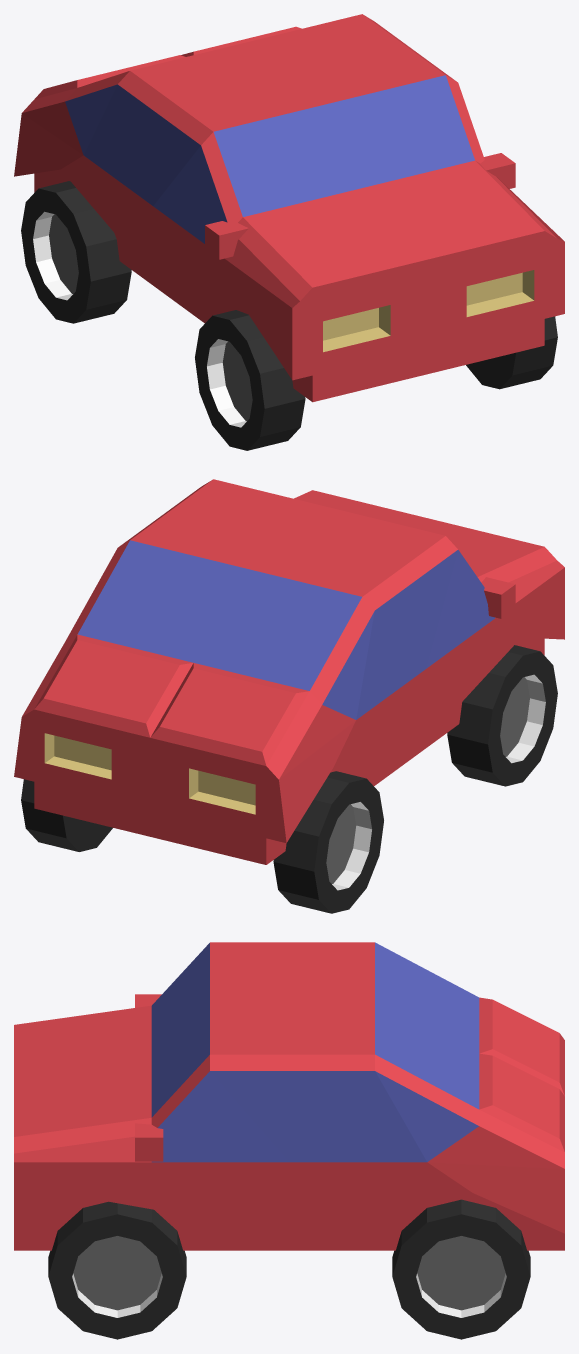
File: car.fbx
The picture shows the model from 3 angles, top to bottom: view 1: azimuth 30°, elevation 25°; view 2: azimuth 150°, elevation 25°; view 3: azimuth 270°, elevation 25°; orthographic projection.
Visible parts, largest first — view 1: Car, Car.001; view 2: Car, Car.001; view 3: Car, Car.001.
Part boxes in pixels (x1=…): Car: x1=14, y1=14, x2=564, y2=402; Car.001: x1=21, y1=181, x2=557, y2=450; Car: x1=14, y1=479, x2=564, y2=864; Car.001: x1=21, y1=645, x2=557, y2=913; Car: x1=14, y1=942, x2=564, y2=1250; Car.001: x1=48, y1=1199, x2=530, y2=1339.
Size of the model in its own units: 42.33 by 37.28 by 68.87.
